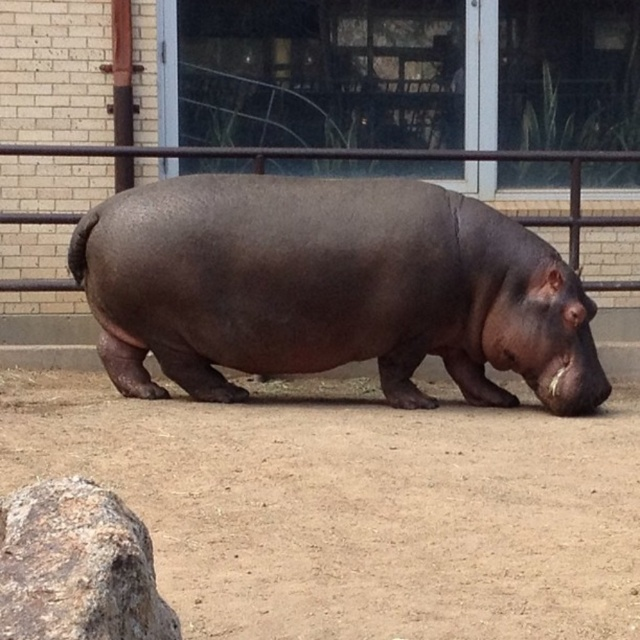Hippopotamus: (66, 173, 613, 410)
